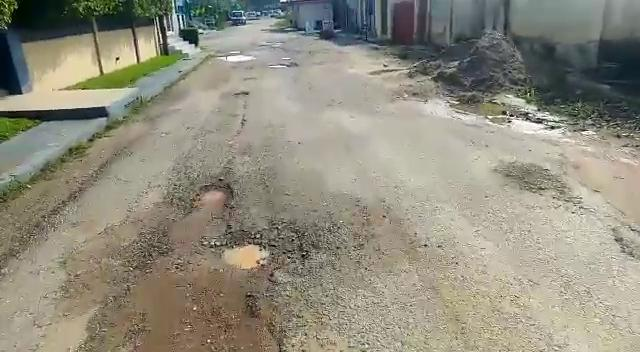pothole: (218, 242, 272, 273), (195, 184, 233, 211), (209, 54, 256, 63)
